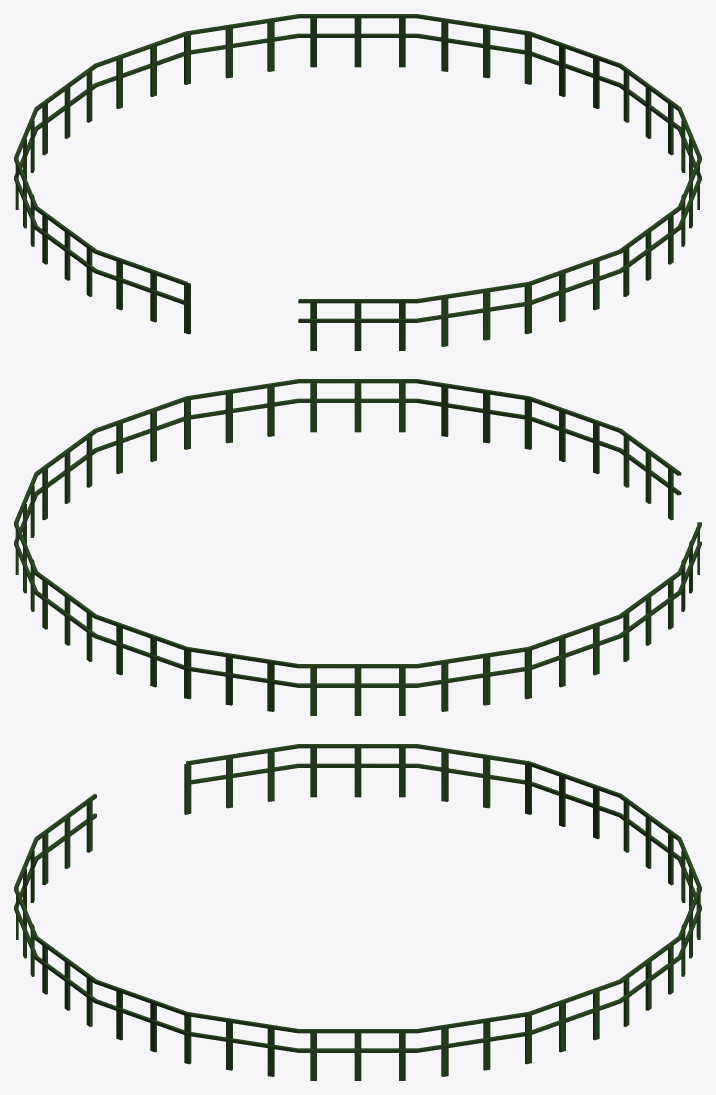
The picture shows the model from 3 angles, top to bottom: view 1: azimuth 30°, elevation 25°; view 2: azimuth 150°, elevation 25°; view 3: azimuth 270°, elevation 25°; orthographic projection.
Parts seen in each view (by area): view 1: SM_dx_05; view 2: SM_dx_05; view 3: SM_dx_05.
Boxes of the visible parts, x1,y1,x2,y2 form: SM_dx_05: (14, 14, 701, 350); SM_dx_05: (14, 379, 701, 715); SM_dx_05: (14, 744, 701, 1080).
Size of the model in its own units: 21371 by 1785 by 21700.
